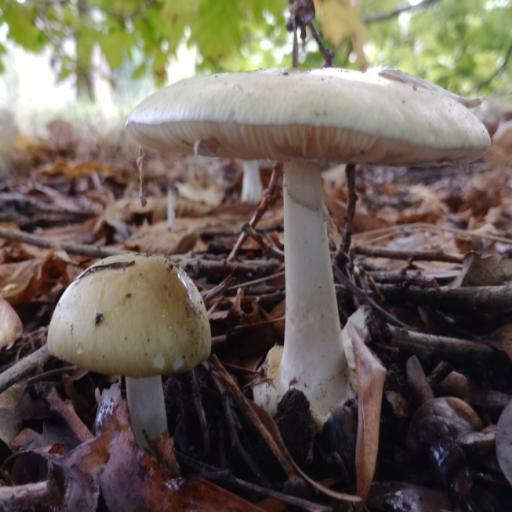mushroom: (64, 0, 495, 405), (29, 226, 260, 463)
